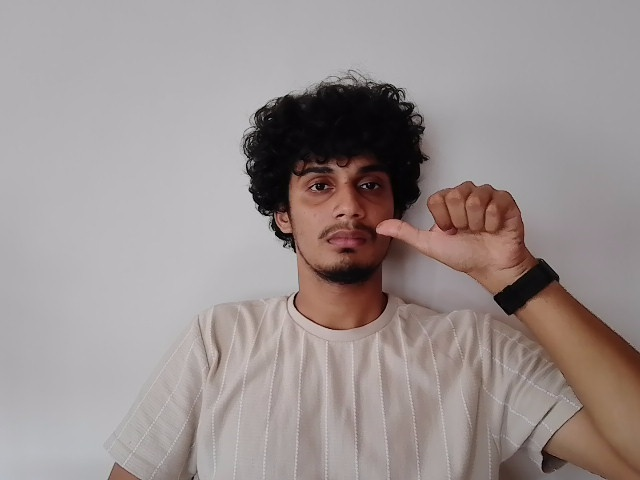drink: (271, 159, 532, 276)
